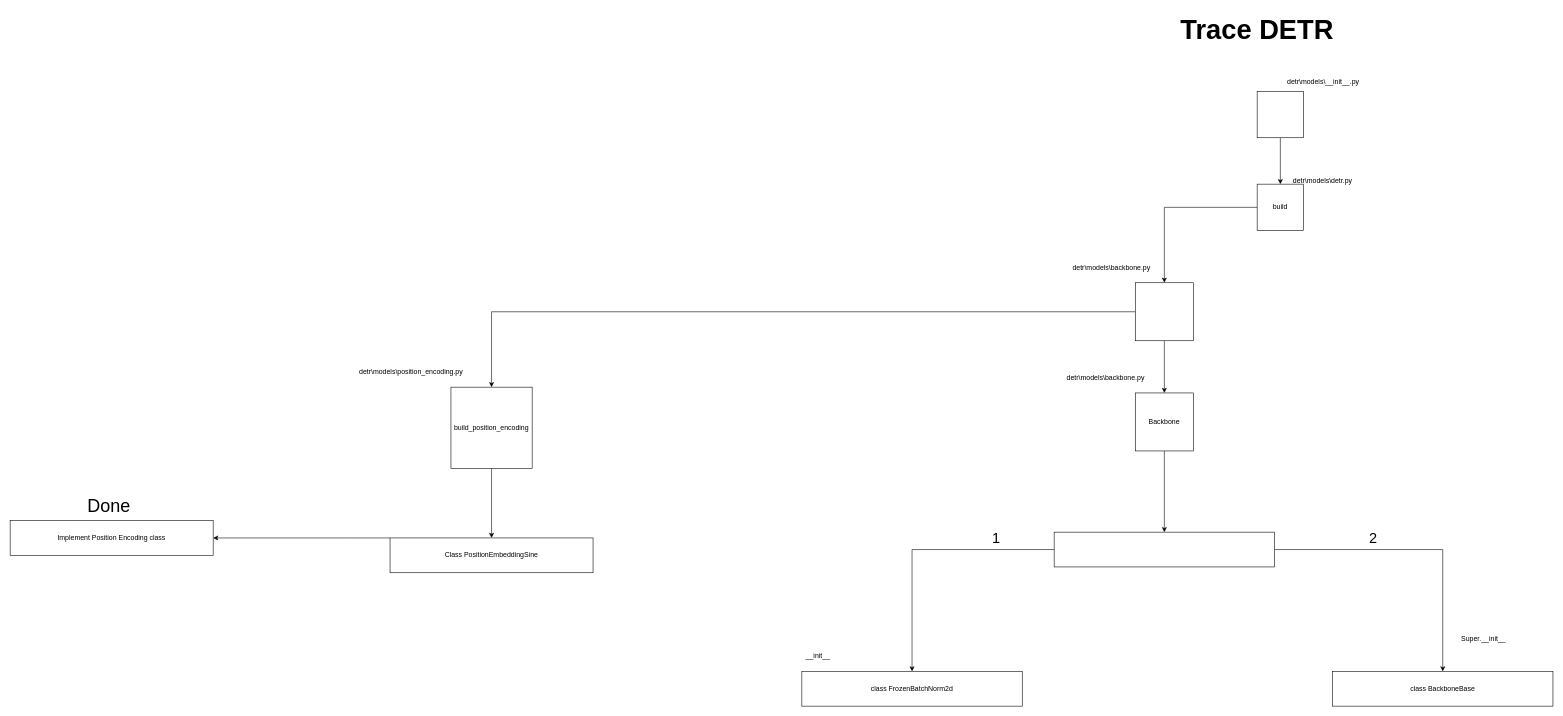
The diagram is 1563 pixels wide and 716 high, and some of its shapes have lost their labels. The shapes that lost their labels are listed below. From the top down, each one's box as (x1, y1, x2, y2) in pixels, then its label:
(1257, 91, 1304, 138): build_model
(1135, 282, 1193, 341): build_backbone
(1054, 532, 1275, 567): class Backbone
